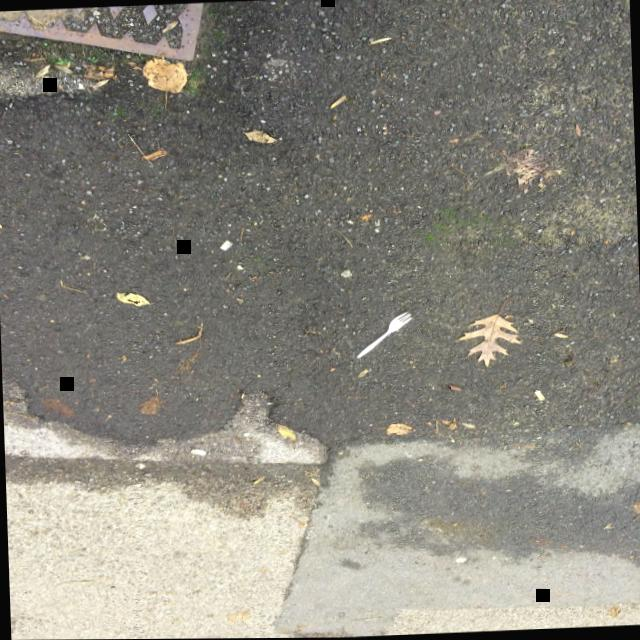Cigarette: (533, 390, 545, 401)
Plastic utensils: (356, 312, 412, 358)
